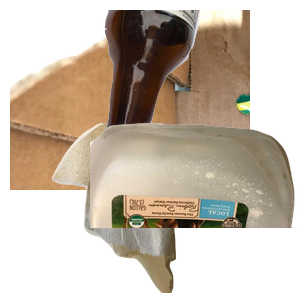cardboard: (10, 10, 250, 190)
glass: (99, 10, 300, 170)
plastic: (90, 120, 300, 300)
trash: (50, 120, 219, 300)
